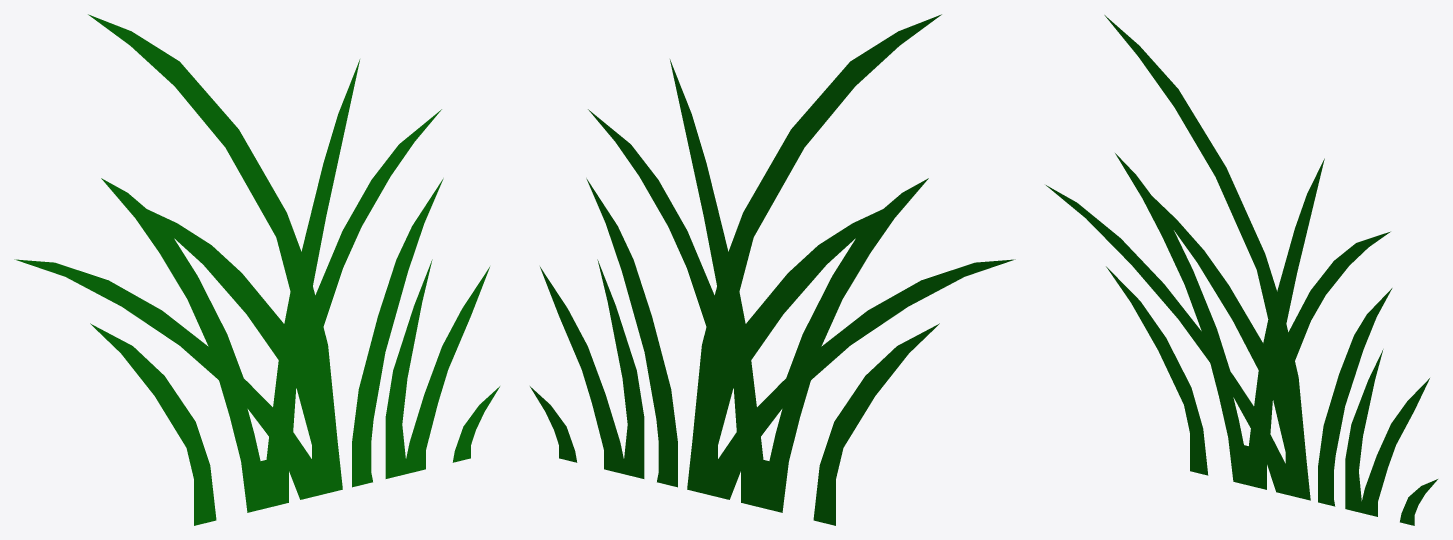
Rendered from Vegetation_Verdant_Grass_Flat_01.FBX.
The picture shows the model from 3 angles, left to right: view 1: azimuth 30°, elevation 25°; view 2: azimuth 150°, elevation 25°; view 3: azimuth 330°, elevation 25°; orthographic projection. The views are drawn at different scales.
Visible parts, largest first — view 1: Vegetation_Verdant_Grass_Flat_01; view 2: Vegetation_Verdant_Grass_Flat_01; view 3: Vegetation_Verdant_Grass_Flat_01.
Boxes of the visible parts, <box> form: Vegetation_Verdant_Grass_Flat_01: <box>14,14,499,525</box>; Vegetation_Verdant_Grass_Flat_01: <box>530,14,1015,525</box>; Vegetation_Verdant_Grass_Flat_01: <box>1046,15,1437,525</box>.
Size of the model in its own units: 1321 by 1396 by 6.1e-05.
